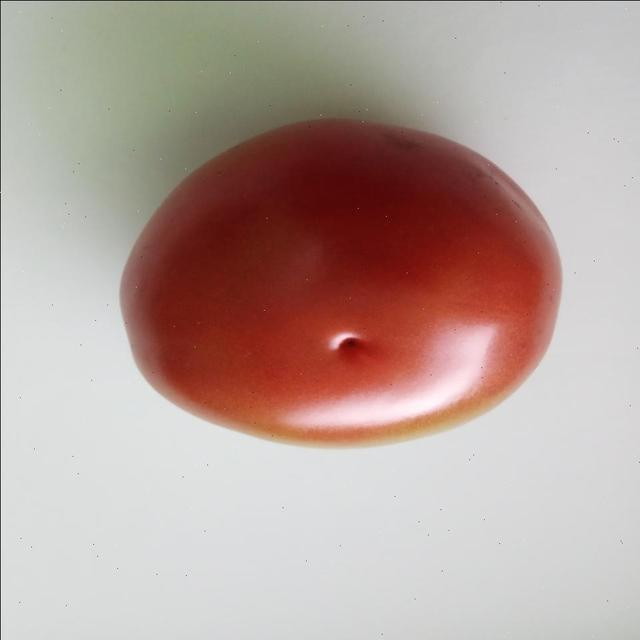Healthy Fruit: (74, 78, 379, 303)
